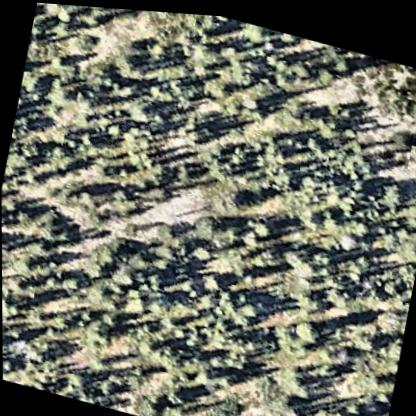tree-top: (32, 201, 72, 244), (82, 312, 118, 348), (211, 211, 246, 247), (377, 171, 409, 209), (119, 285, 152, 321), (270, 387, 309, 416), (215, 180, 249, 213), (233, 286, 265, 321), (115, 48, 148, 81), (312, 105, 345, 138), (293, 311, 323, 343), (283, 362, 313, 394), (81, 251, 110, 282), (296, 283, 326, 312), (249, 208, 277, 238), (192, 205, 216, 239), (191, 233, 219, 262), (351, 321, 379, 350), (58, 267, 85, 297), (127, 243, 154, 272), (274, 124, 301, 152), (146, 35, 172, 62), (198, 266, 224, 293), (20, 136, 46, 163), (242, 18, 271, 40), (90, 156, 115, 181), (393, 120, 416, 146), (139, 393, 165, 416), (306, 125, 329, 150), (97, 374, 120, 398), (106, 118, 127, 142), (318, 57, 339, 81), (321, 400, 352, 416), (380, 271, 402, 293), (335, 49, 356, 72), (277, 26, 299, 43), (153, 9, 178, 14)
